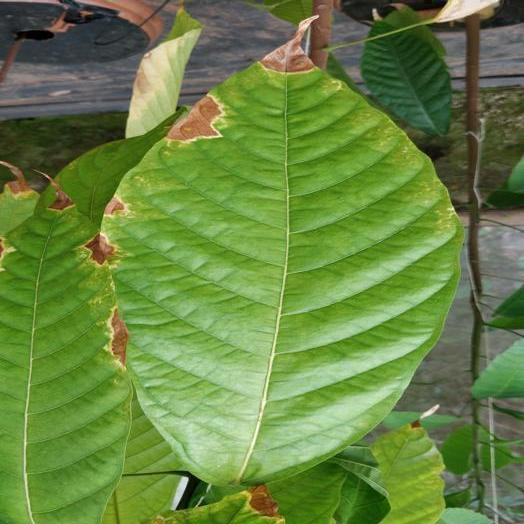Potassium: (103, 17, 461, 485), (0, 179, 132, 523)
